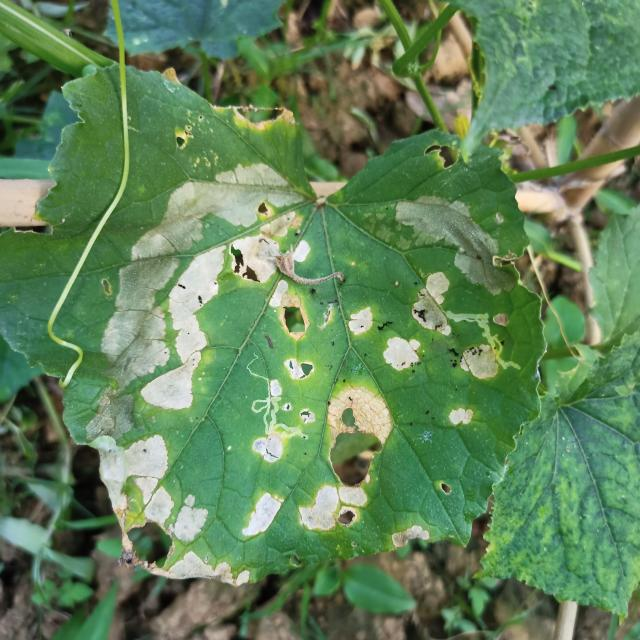disease_cucumber: (85, 416, 434, 583), (104, 158, 329, 416), (349, 197, 516, 444)
